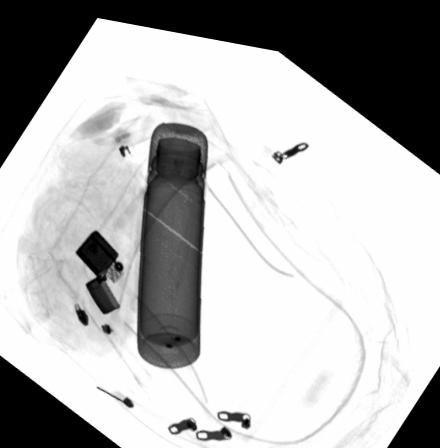Lighter: (74, 224, 125, 310)
